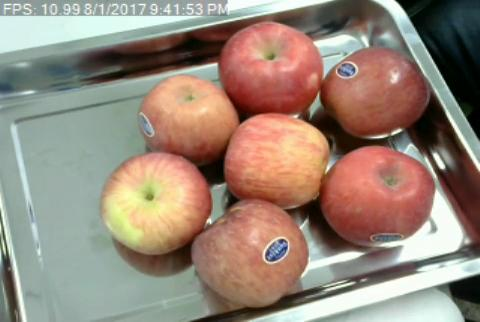apple: (193, 199, 309, 306), (321, 146, 438, 248), (100, 154, 212, 255), (322, 46, 432, 141), (225, 113, 329, 209), (218, 21, 322, 115), (137, 75, 240, 156)
